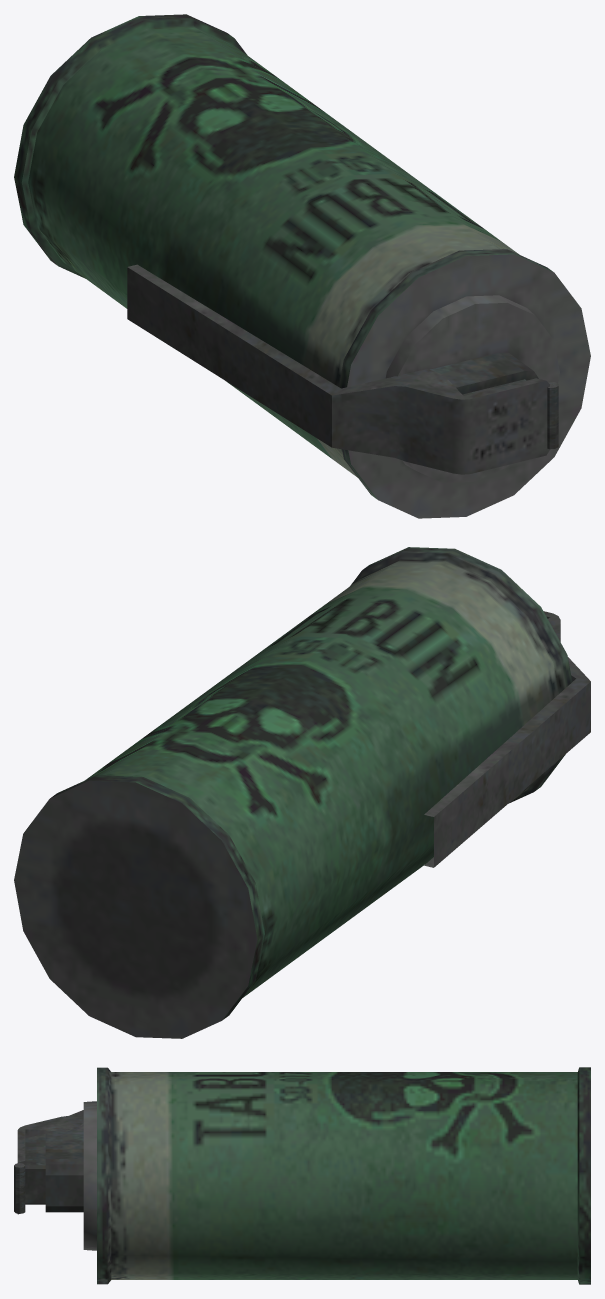
The model's file is weapon_mp_weapon_tabun1.obj.
The picture shows the model from 3 angles, top to bottom: view 1: azimuth 30°, elevation 25°; view 2: azimuth 150°, elevation 25°; view 3: azimuth 270°, elevation 25°; orthographic projection. The views are drawn at different scales.
Parts seen in each view (by area): view 1: TomGroup_0; view 2: TomGroup_0; view 3: TomGroup_0.
Part boxes in pixels (x1,y1,x2,y2): TomGroup_0: [14, 14, 590, 518]; TomGroup_0: [14, 547, 590, 1038]; TomGroup_0: [14, 1067, 590, 1284].
Size of the model in its own units: 6.2 by 5.46 by 14.49.
Materials: 1 (1 with a texture image).
